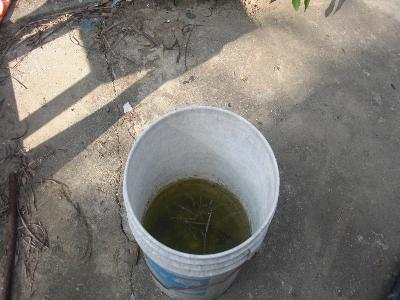bucket: (122, 105, 282, 299)
